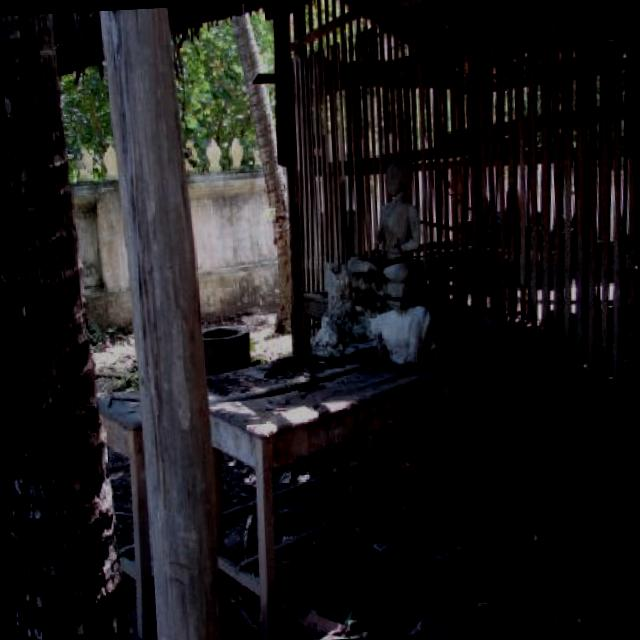Person: (342, 156, 424, 286)
